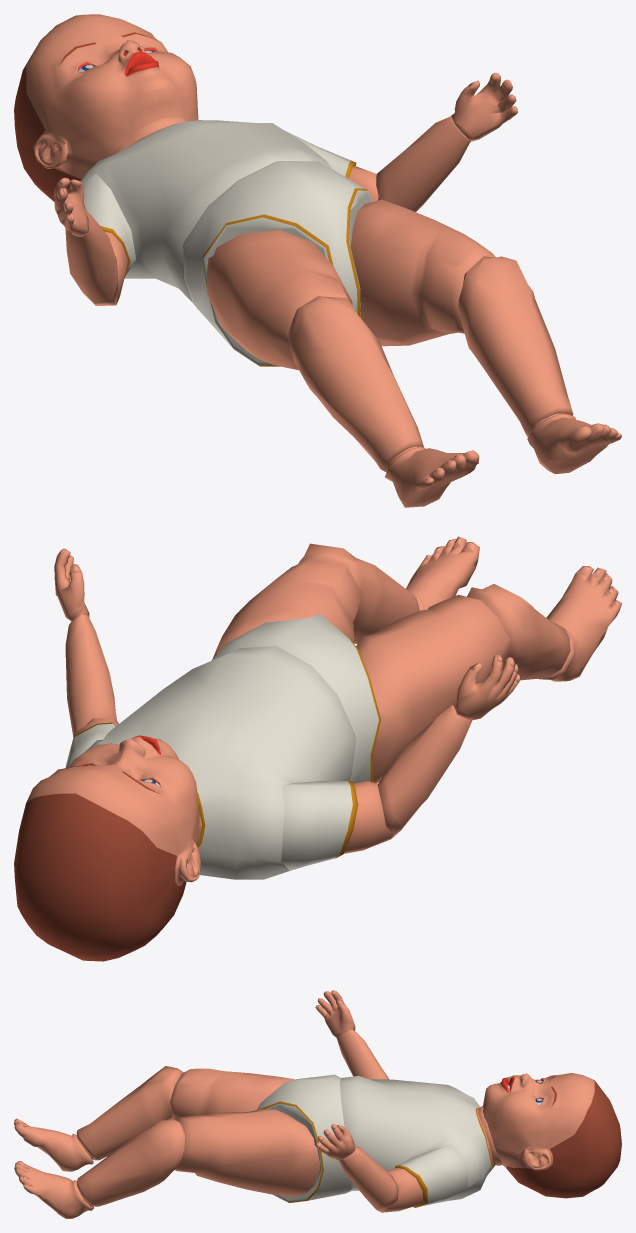
Rendered from nourrison.obj.
3 views of the same model, one above another, from view 1: azimuth 30°, elevation 25°; view 2: azimuth 150°, elevation 25°; view 3: azimuth 270°, elevation 25° (orthographic). The views are drawn at different scales.
Visible parts, largest first — view 1: sweethome3d_mannequin_head_head, sweethome3d_mannequin_chest_chest, sweethome3d_mannequin_pelvis_pelvis, sweethome3d_mannequin_left_thigh_leftThigh, sweethome3d_mannequin_right_leg_rightLeg, sweethome3d_mannequin_right_thigh_rightThigh, sweethome3d_mannequin_left_leg_leftLeg, sweethome3d_mannequin_left_forearm_leftForearm, sweethome3d_mannequin_right_foot_rightFoot, sweethome3d_mannequin_left_foot_leftFoot, sweethome3d_mannequin_right_forearm_rightForearm, sweethome3d_mannequin_left_hand_leftHand (+3 smaller); view 2: sweethome3d_mannequin_head_head, sweethome3d_mannequin_chest_chest, sweethome3d_mannequin_right_thigh_rightThigh, sweethome3d_mannequin_pelvis_pelvis, sweethome3d_mannequin_right_arm_rightArm, sweethome3d_mannequin_left_thigh_leftThigh, sweethome3d_mannequin_right_forearm_rightForearm, sweethome3d_mannequin_right_foot_rightFoot, sweethome3d_mannequin_right_leg_rightLeg, sweethome3d_mannequin_left_forearm_leftForearm, sweethome3d_mannequin_left_leg_leftLeg, sweethome3d_mannequin_left_foot_leftFoot (+3 smaller); view 3: sweethome3d_mannequin_head_head, sweethome3d_mannequin_chest_chest, sweethome3d_mannequin_left_thigh_leftThigh, sweethome3d_mannequin_left_leg_leftLeg, sweethome3d_mannequin_pelvis_pelvis, sweethome3d_mannequin_right_leg_rightLeg, sweethome3d_mannequin_right_thigh_rightThigh, sweethome3d_mannequin_left_arm_leftArm, sweethome3d_mannequin_left_foot_leftFoot, sweethome3d_mannequin_left_forearm_leftForearm, sweethome3d_mannequin_right_foot_rightFoot, sweethome3d_mannequin_right_forearm_rightForearm (+2 smaller).
Boxes of the visible parts, x1,y1,x2,y2 form: sweethome3d_mannequin_head_head: (14,14,198,201); sweethome3d_mannequin_chest_chest: (80,118,332,302); sweethome3d_mannequin_pelvis_pelvis: (183,160,372,366); sweethome3d_mannequin_left_thigh_leftThigh: (350,199,495,346); sweethome3d_mannequin_right_leg_rightLeg: (287,296,423,472); sweethome3d_mannequin_right_thigh_rightThigh: (206,230,352,370); sweethome3d_mannequin_left_leg_leftLeg: (458,256,573,436); sweethome3d_mannequin_left_forearm_leftForearm: (376,116,471,211); sweethome3d_mannequin_right_foot_rightFoot: (385,447,479,507); sweethome3d_mannequin_left_foot_leftFoot: (527,414,621,474); sweethome3d_mannequin_right_forearm_rightForearm: (65,212,118,305); sweethome3d_mannequin_left_hand_leftHand: (451,73,517,141); sweethome3d_mannequin_head_head: (14,735,200,961); sweethome3d_mannequin_chest_chest: (85,646,356,879); sweethome3d_mannequin_right_thigh_rightThigh: (356,594,511,783); sweethome3d_mannequin_pelvis_pelvis: (211,614,380,783); sweethome3d_mannequin_right_arm_rightArm: (281,781,393,870); sweethome3d_mannequin_left_thigh_leftThigh: (212,559,362,659); sweethome3d_mannequin_right_forearm_rightForearm: (378,705,471,838); sweethome3d_mannequin_right_foot_rightFoot: (538,566,621,681); sweethome3d_mannequin_right_leg_rightLeg: (467,584,570,680); sweethome3d_mannequin_left_forearm_leftForearm: (65,614,116,737); sweethome3d_mannequin_left_leg_leftLeg: (298,543,419,643); sweethome3d_mannequin_left_foot_leftFoot: (406,536,479,610); sweethome3d_mannequin_head_head: (483,1073,621,1198); sweethome3d_mannequin_chest_chest: (340,1076,502,1200); sweethome3d_mannequin_left_thigh_leftThigh: (175,1109,319,1196); sweethome3d_mannequin_left_leg_leftLeg: (77,1118,184,1206); sweethome3d_mannequin_pelvis_pelvis: (257,1074,351,1202); sweethome3d_mannequin_right_leg_rightLeg: (76,1066,183,1160); sweethome3d_mannequin_right_thigh_rightThigh: (170,1068,294,1120); sweethome3d_mannequin_left_arm_leftArm: (382,1145,468,1212); sweethome3d_mannequin_left_foot_leftFoot: (14,1161,93,1218); sweethome3d_mannequin_left_forearm_leftForearm: (339,1145,398,1212); sweethome3d_mannequin_right_foot_rightFoot: (14,1118,93,1171); sweethome3d_mannequin_right_forearm_rightForearm: (336,1029,389,1079).
Size of the model in its own units: 34.54 by 15.59 by 62.85.
